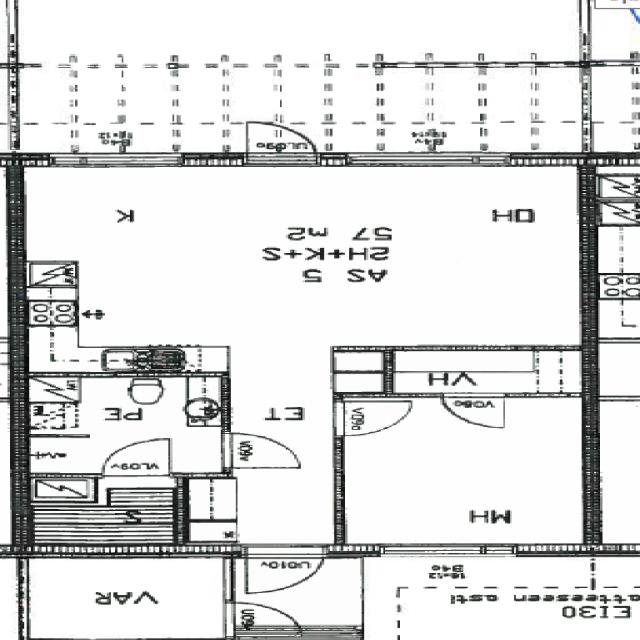door: (246, 543, 322, 594), (246, 118, 317, 166), (222, 432, 300, 468), (332, 401, 412, 435), (224, 602, 301, 636), (105, 441, 168, 477), (442, 393, 502, 426)
